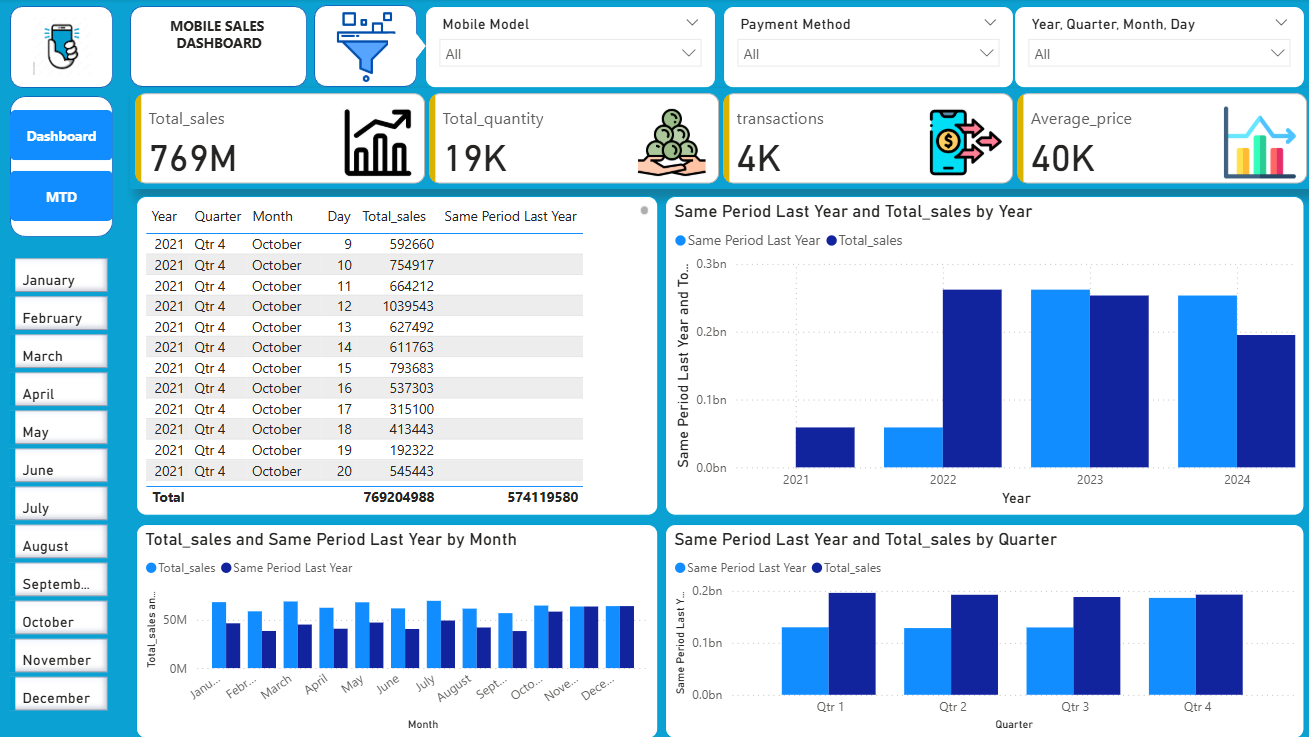

This screenshot's page, from the dashboard's own definition file:
{"tool":"powerbi","page":{"name":"Same Period Last Year","canvas":[1280,720],"ordinal":2},"visuals":[{"type":"shape","box":[9.7,6.8,100.2,79.8],"z":0},{"type":"image","box":[9.7,12.6,100.2,67.1],"z":1000},{"type":"shape","box":[9.7,94.3,100.2,137.1],"z":2000},{"type":"cardVisual","fields":{"Data":["mobile_sales.Total_sales","mobile_sales.Total_quantity","mobile_sales.transactions","mobile_sales.Average_price"]},"box":[126.4,86.6,1153.6,98.2],"z":3000},{"type":"slicer","fields":{"Values":["mobile_sales.Mobile Model"]},"box":[413.4,6.8,283,79.8],"z":4000},{"type":"slicer","fields":{"Values":["mobile_sales.Payment Method"]},"box":[703.2,6.8,283,79.8],"z":5000},{"type":"slicer","fields":{"Values":["custom_calender.Date.Variation.Date Hierarchy.Year","custom_calender.Date.Variation.Date Hierarchy.Quarter","custom_calender.Date.Variation.Date Hierarchy.Month","custom_calender.Date.Variation.Date Hierarchy.Day"]},"box":[986.3,6.8,283,79.8],"z":6000},{"type":"shape","box":[305.4,5.8,100.2,79.8],"z":7000},{"type":"image","box":[316.1,6.8,79.8,80.7],"z":8000},{"type":"shape","box":[377.4,21.4,37,48.6],"z":9000},{"type":"shape","box":[126.4,6.8,172.2,78.8],"z":10000},{"type":"textbox","box":[132.3,11.7,161.5,58.4],"z":11000},{"type":"advancedSlicerVisual","fields":{"Values":["custom_calender.Date.Variation.Date Hierarchy.Month"]},"box":[3.9,247.1,106,453.3],"z":12000},{"type":"tableEx","fields":{"Values":["custom_calender.Date.Variation.Date Hierarchy.Year","custom_calender.Date.Variation.Date Hierarchy.Quarter","custom_calender.Date.Variation.Date Hierarchy.Month","custom_calender.Date.Variation.Date Hierarchy.Day","mobile_sales.Total_sales","mobile_sales.Same Period Last Year"]},"box":[132.3,191.6,507.7,311.2],"z":13000},{"type":"clusteredColumnChart","fields":{"Category":["custom_calender.Date.Variation.Date Hierarchy.Year","custom_calender.Date.Variation.Date Hierarchy.Quarter","custom_calender.Date.Variation.Date Hierarchy.Month","custom_calender.Date.Variation.Date Hierarchy.Day"],"Y":["mobile_sales.Same Period Last Year","mobile_sales.Total_sales"]},"box":[646.8,191.6,622.5,311.2],"z":14000},{"type":"clusteredColumnChart","fields":{"Category":["custom_calender.Date.Variation.Date Hierarchy.Year","custom_calender.Date.Variation.Date Hierarchy.Quarter","custom_calender.Date.Variation.Date Hierarchy.Month","custom_calender.Date.Variation.Date Hierarchy.Day"],"Y":["mobile_sales.Total_sales","mobile_sales.Same Period Last Year"]},"box":[132.3,510.6,507.7,209.1],"z":15000},{"type":"clusteredColumnChart","fields":{"Category":["custom_calender.Date.Variation.Date Hierarchy.Year","custom_calender.Date.Variation.Date Hierarchy.Quarter","custom_calender.Date.Variation.Date Hierarchy.Month","custom_calender.Date.Variation.Date Hierarchy.Day"],"Y":["mobile_sales.Same Period Last Year","mobile_sales.Total_sales"]},"box":[646.8,510.6,622.5,209.1],"z":16000},{"type":"pageNavigator","box":[9.7,108,100.2,109.9],"z":17000}]}

Visuals, with their boxes in screenshot pixels (x1, y1, x2, y2), scaled from the page's 1280x720 canvas onto the 1309x737 screenshot:
shape: <bbox>10, 7, 112, 89</bbox>
image: <bbox>10, 13, 112, 82</bbox>
shape: <bbox>10, 97, 112, 237</bbox>
cardVisual - mobile_sales.Total_sales x mobile_sales.Total_quantity: <bbox>129, 89, 1308, 189</bbox>
slicer - mobile_sales.Mobile Model: <bbox>423, 7, 712, 89</bbox>
slicer - mobile_sales.Payment Method: <bbox>719, 7, 1009, 89</bbox>
slicer - custom_calender.Date.Variation.Date Hierarchy.Year x custom_calender.Date.Variation.Date Hierarchy.Quarter: <bbox>1009, 7, 1298, 89</bbox>
shape: <bbox>312, 6, 415, 88</bbox>
image: <bbox>323, 7, 405, 90</bbox>
shape: <bbox>386, 22, 424, 72</bbox>
shape: <bbox>129, 7, 305, 88</bbox>
textbox: <bbox>135, 12, 300, 72</bbox>
advancedSlicerVisual - custom_calender.Date.Variation.Date Hierarchy.Month: <bbox>4, 253, 112, 717</bbox>
tableEx - custom_calender.Date.Variation.Date Hierarchy.Year x custom_calender.Date.Variation.Date Hierarchy.Quarter: <bbox>135, 196, 654, 515</bbox>
clusteredColumnChart - custom_calender.Date.Variation.Date Hierarchy.Year x custom_calender.Date.Variation.Date Hierarchy.Quarter: <bbox>661, 196, 1298, 515</bbox>
clusteredColumnChart - custom_calender.Date.Variation.Date Hierarchy.Year x custom_calender.Date.Variation.Date Hierarchy.Quarter: <bbox>135, 523, 654, 736</bbox>
clusteredColumnChart - custom_calender.Date.Variation.Date Hierarchy.Year x custom_calender.Date.Variation.Date Hierarchy.Quarter: <bbox>661, 523, 1298, 736</bbox>
pageNavigator: <bbox>10, 111, 112, 223</bbox>
